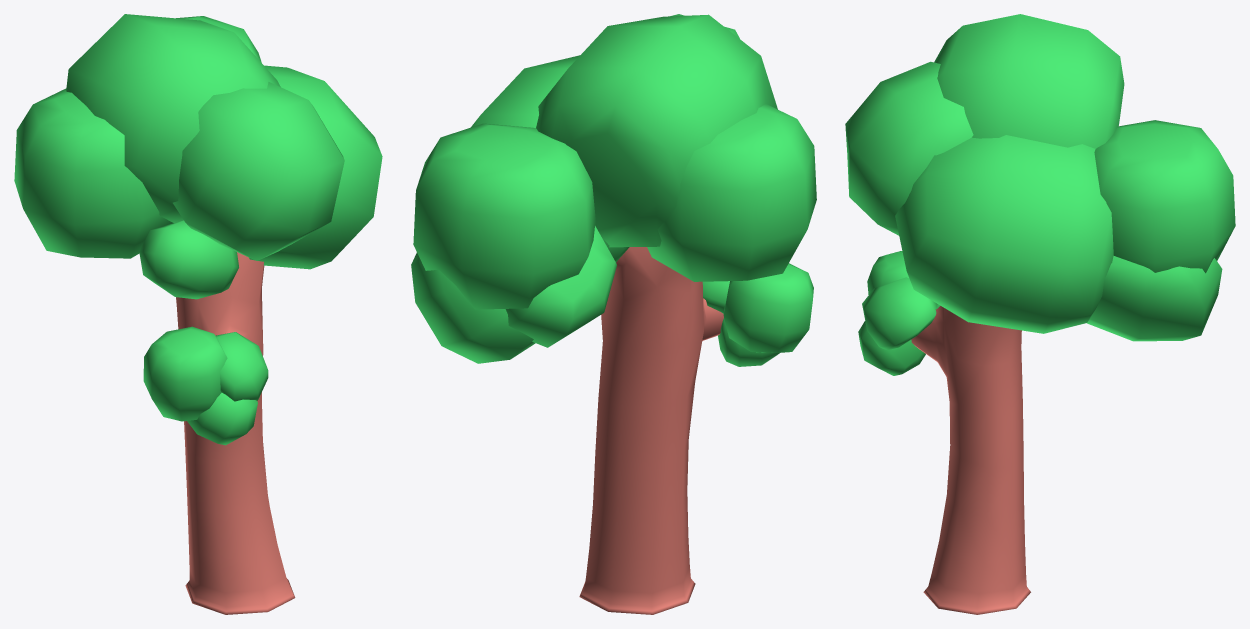
The model's file is Tree2Visitor.fbx.
3 renders of one model, left to right at view 1: azimuth 30°, elevation 25°; view 2: azimuth 150°, elevation 25°; view 3: azimuth 270°, elevation 25°, orthographic. The views are drawn at different scales.
Visible parts, largest first — view 1: SmoothTree2; view 2: SmoothTree2; view 3: SmoothTree2.
Boxes of the visible parts, x1,y1,x2,y2 form: SmoothTree2: (14,14,382,614); SmoothTree2: (411,14,816,614); SmoothTree2: (845,14,1235,614).
Size of the model in its own units: 874 by 1444 by 925.
